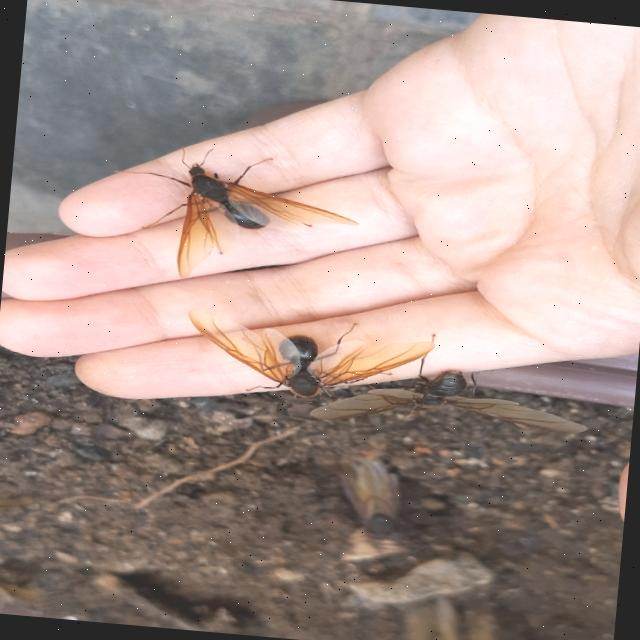Alive-Male-Alate: (104, 138, 366, 294), (308, 322, 596, 443), (181, 308, 437, 410)
